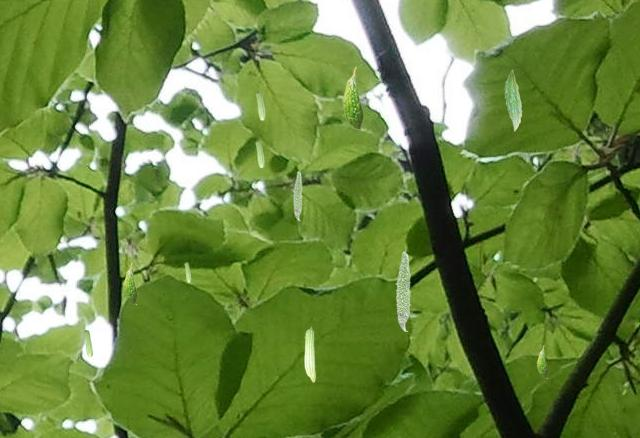ampalaya: (341, 66, 364, 130), (395, 250, 411, 332), (504, 69, 522, 131), (304, 326, 316, 382), (122, 262, 137, 305), (292, 170, 302, 221), (536, 344, 548, 379), (255, 90, 265, 120), (255, 139, 265, 168), (83, 329, 93, 357), (184, 261, 191, 282)
